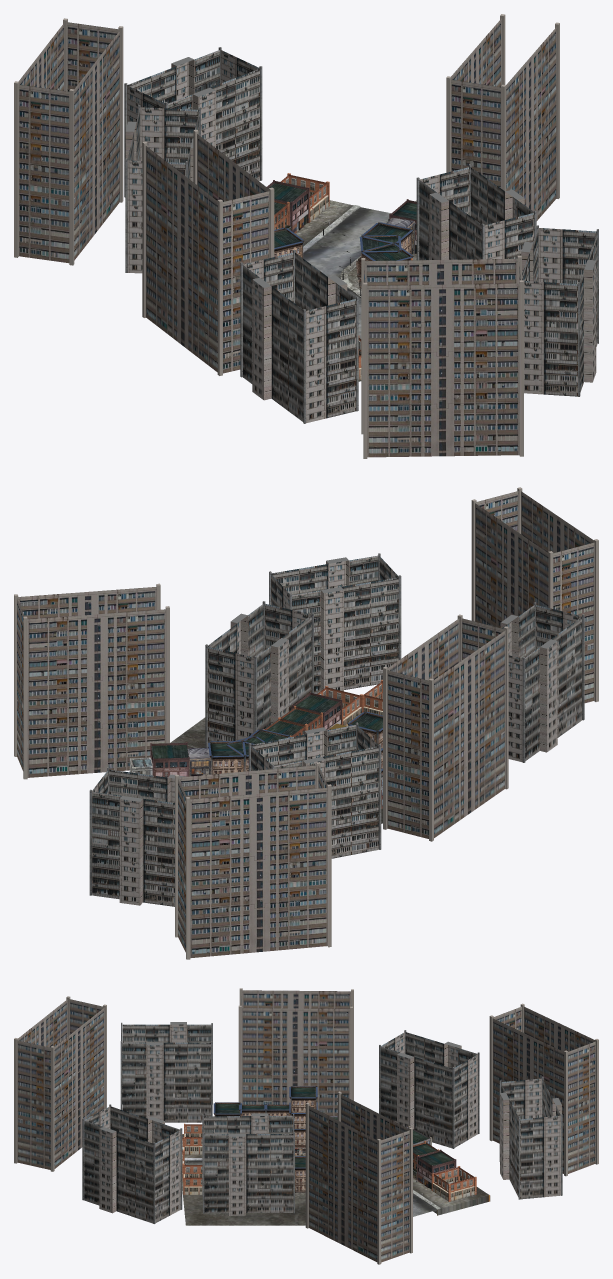
File: downtown.glb
The picture shows the model from 3 angles, top to bottom: view 1: azimuth 30°, elevation 25°; view 2: azimuth 150°, elevation 25°; view 3: azimuth 270°, elevation 25°; orthographic projection. The views are drawn at different scales.
Visible parts, largest first — view 1: Plane_030, Plane_029, Plane_027, Cube_016, Plane_028, Cube_019, Cube_013, Cube_014, Cube_012, Plane, Cube_005, Cube_006 (+5 smaller); view 2: Plane_029, Plane_028, Plane_027, Plane_030, Cube_019, Cube_014, Cube_013, Cube_016, Cube_012, Cube_008, Plane_026, Cube_009 (+4 smaller); view 3: Plane_028, Plane_030, Plane_027, Plane_029, Cube_019, Cube_012, Cube_014, Cube_016, Cube_013, Plane_007, Cube_006, Plane_006 (+7 smaller).
Boxes of the visible parts, <box> form: Plane_030: <box>361,255,523,458</box>; Plane_029: <box>14,18,123,265</box>; Plane_027: <box>142,129,274,375</box>; Cube_016: <box>240,249,358,423</box>; Plane_028: <box>446,14,559,220</box>; Cube_019: <box>521,225,598,396</box>; Cube_013: <box>124,47,262,197</box>; Cube_014: <box>416,164,536,260</box>; Cube_012: <box>125,104,200,273</box>; Plane: <box>303,207,390,338</box>; Cube_005: <box>267,180,309,233</box>; Cube_006: <box>280,173,329,222</box>; Plane_029: <box>175,762,331,959</box>; Plane_028: <box>14,583,169,779</box>; Plane_027: <box>383,614,508,841</box>; Plane_030: <box>471,487,598,703</box>; Cube_019: <box>269,553,401,693</box>; Cube_014: <box>205,601,313,747</box>; Cube_013: <box>89,767,185,906</box>; Cube_016: <box>500,602,584,762</box>; Cube_012: <box>248,722,381,858</box>; Cube_008: <box>150,742,189,777</box>; Plane_026: <box>208,740,246,774</box>; Cube_009: <box>292,692,342,730</box>; Plane_028: <box>305,1091,412,1264</box>; Plane_030: <box>14,996,106,1171</box>; Plane_027: <box>238,988,353,1115</box>; Plane_029: <box>489,1003,598,1176</box>; Cube_019: <box>82,1104,182,1223</box>; Cube_012: <box>379,1030,479,1148</box>; Cube_014: <box>202,1113,294,1215</box>; Cube_016: <box>120,1022,212,1122</box>; Cube_013: <box>499,1076,562,1199</box>; Plane_007: <box>182,1181,305,1225</box>; Cube_006: <box>431,1166,476,1201</box>; Plane_006: <box>182,1134,490,1215</box>.
Bounding box in the file's own units: 59.59 × 25.52 × 95.23.
17 materials, 11 textured.
